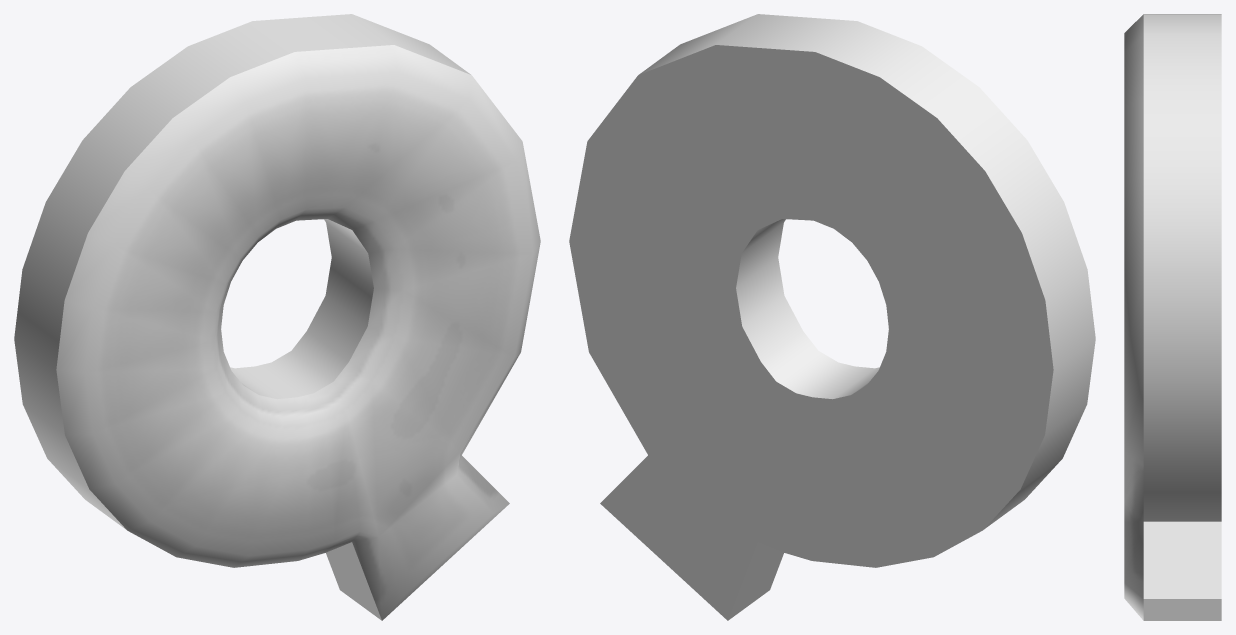
Rendered from LettersStylized01_Q.FBX.
3 views of the same model, side by side, from view 1: azimuth 30°, elevation 25°; view 2: azimuth 150°, elevation 25°; view 3: azimuth 270°, elevation 25° (orthographic). The views are drawn at different scales.
Visible parts, largest first — view 1: LettersStylized01_Q; view 2: LettersStylized01_Q; view 3: LettersStylized01_Q.
Boxes of the visible parts, x1,y1,x2,y2 form: LettersStylized01_Q: (14, 14, 540, 620); LettersStylized01_Q: (569, 14, 1095, 620); LettersStylized01_Q: (1124, 14, 1221, 620).
Size of what is drawn, in the model's own units: 0.4506 by 0.5248 by 0.085.
